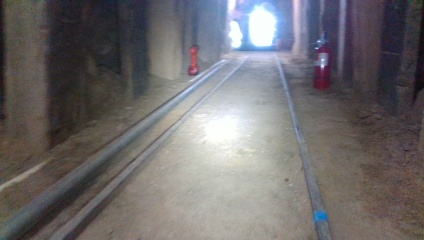drill: (186, 41, 203, 74)
fire_extinguisher: (311, 29, 332, 90)
manikin: (228, 10, 248, 52)
